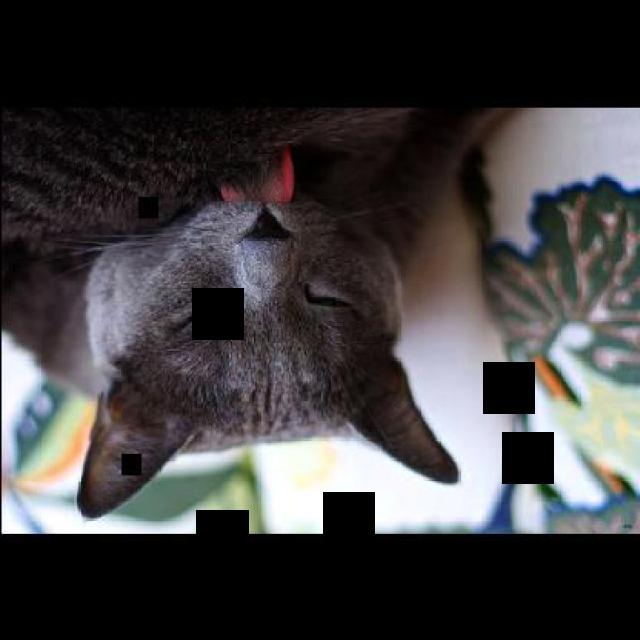unauthorized: (0, 103, 517, 519)
